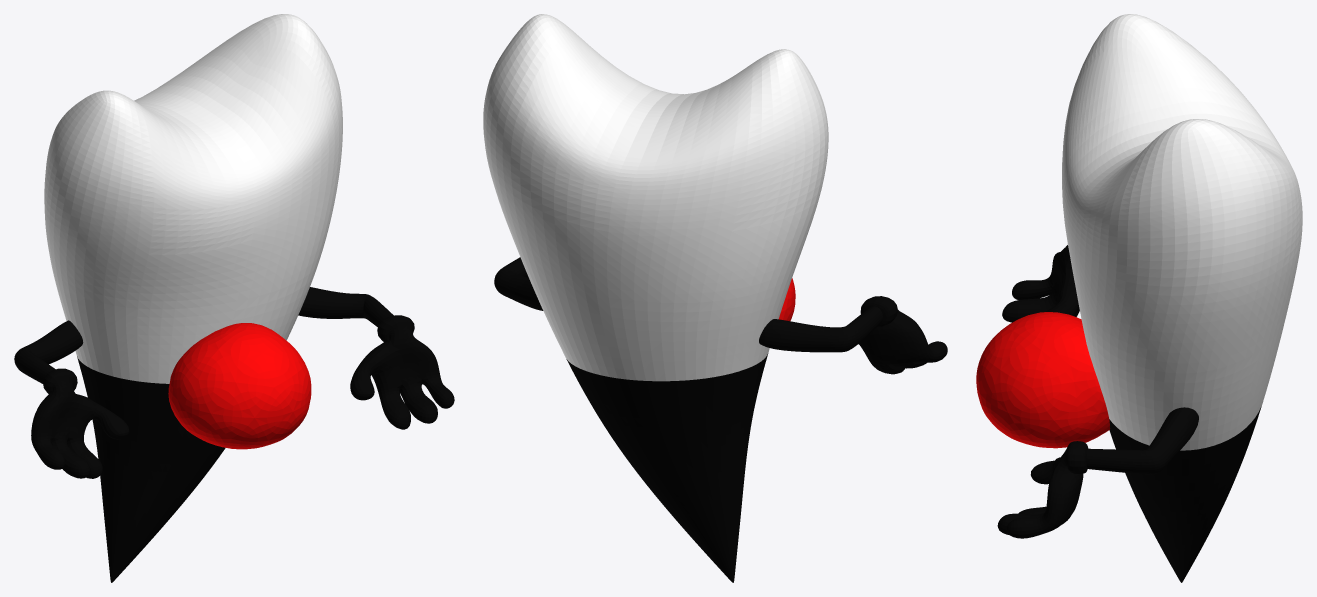
Rendered from java-dukezombie014.obj.
3 renders of one model, left to right at view 1: azimuth 30°, elevation 25°; view 2: azimuth 150°, elevation 25°; view 3: azimuth 270°, elevation 25°, orthographic. The views are drawn at different scales.
Parts seen in each view (by area): view 1: javadude, javadude_hands, javadude_nase; view 2: javadude, javadude_hands; view 3: javadude, javadude_nase, javadude_hands.
Boxes of the visible parts, left/top/right/bottom form: javadude: left=44, top=14, right=342, bottom=582; javadude_hands: left=14, top=287, right=454, bottom=478; javadude_nase: left=168, top=323, right=311, bottom=449; javadude: left=483, top=14, right=828, bottom=582; javadude_hands: left=494, top=257, right=947, bottom=374; javadude: left=1062, top=14, right=1302, bottom=582; javadude_nase: left=976, top=312, right=1110, bottom=448; javadude_hands: left=997, top=245, right=1198, bottom=538.
Bounding box in the file's own units: 3.28 × 3.99 × 2.11.
